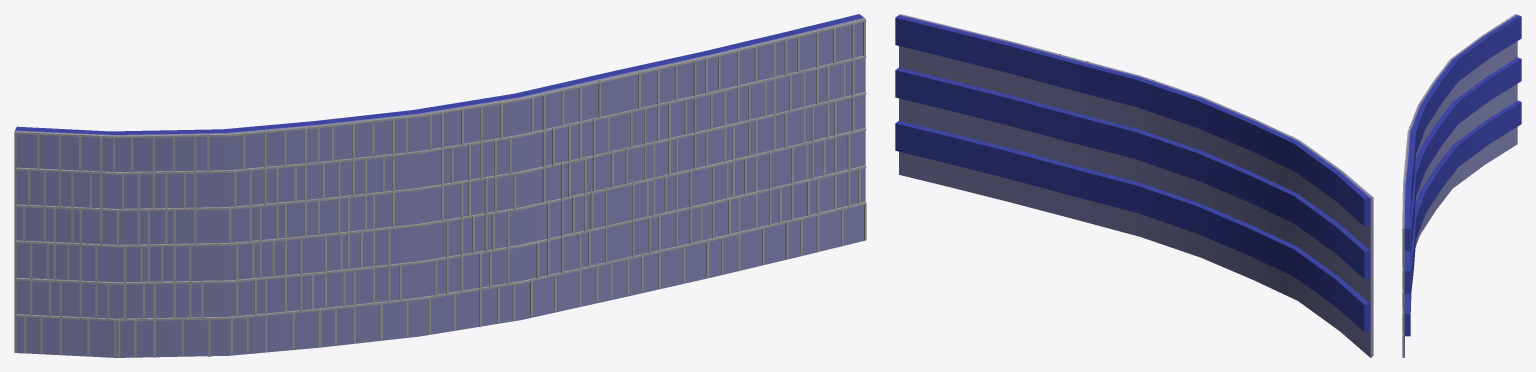
The model's file is GlassWall.fbx.
The picture shows the model from 3 angles, left to right: view 1: azimuth 30°, elevation 25°; view 2: azimuth 150°, elevation 25°; view 3: azimuth 270°, elevation 25°; orthographic projection. The views are drawn at different scales.
Parts seen in each view (by area): view 1: pCube14, pCube57; view 2: pCube57, pCube14; view 3: pCube57, pCube14.
Boxes of the visible parts, left/top/right/bottom form: pCube14: left=15, top=17, right=865, bottom=357; pCube57: left=14, top=14, right=866, bottom=357; pCube57: left=895, top=14, right=1373, bottom=356; pCube14: left=899, top=14, right=1372, bottom=357; pCube57: left=1402, top=14, right=1521, bottom=357; pCube14: left=1403, top=14, right=1517, bottom=357.
Bounding box in the file's own units: 21.33 × 6.05 × 5.02.
